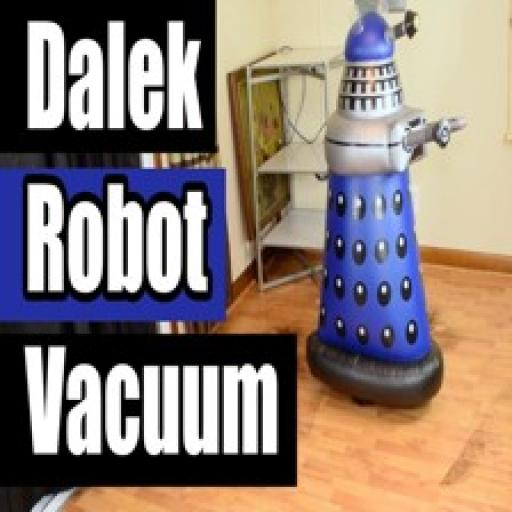dalek: (296, 11, 460, 414)
